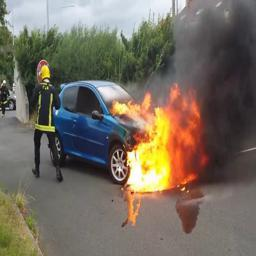fire: (125, 82, 210, 193), (110, 92, 150, 116)
